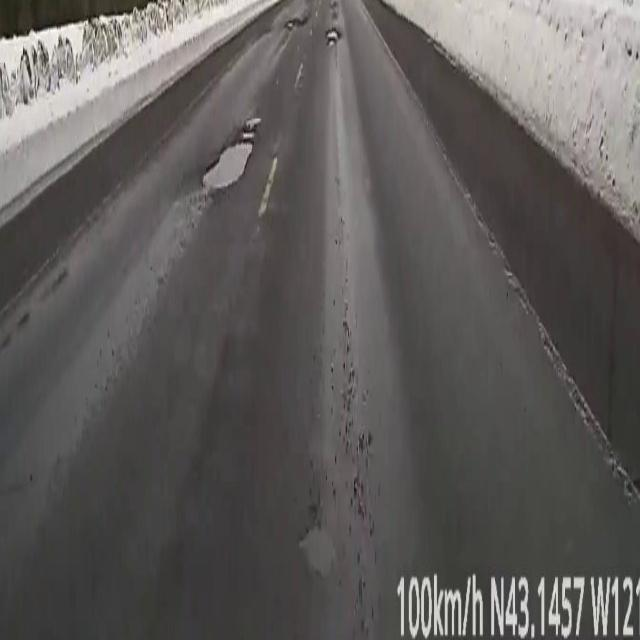pothole: (204, 130, 252, 188), (298, 524, 336, 576), (286, 13, 307, 25), (326, 26, 338, 44)
